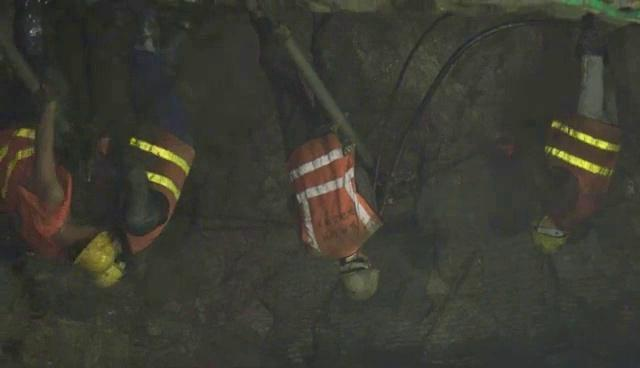helmet: (68, 223, 117, 278), (528, 202, 571, 257), (338, 251, 381, 303), (93, 258, 129, 289)
